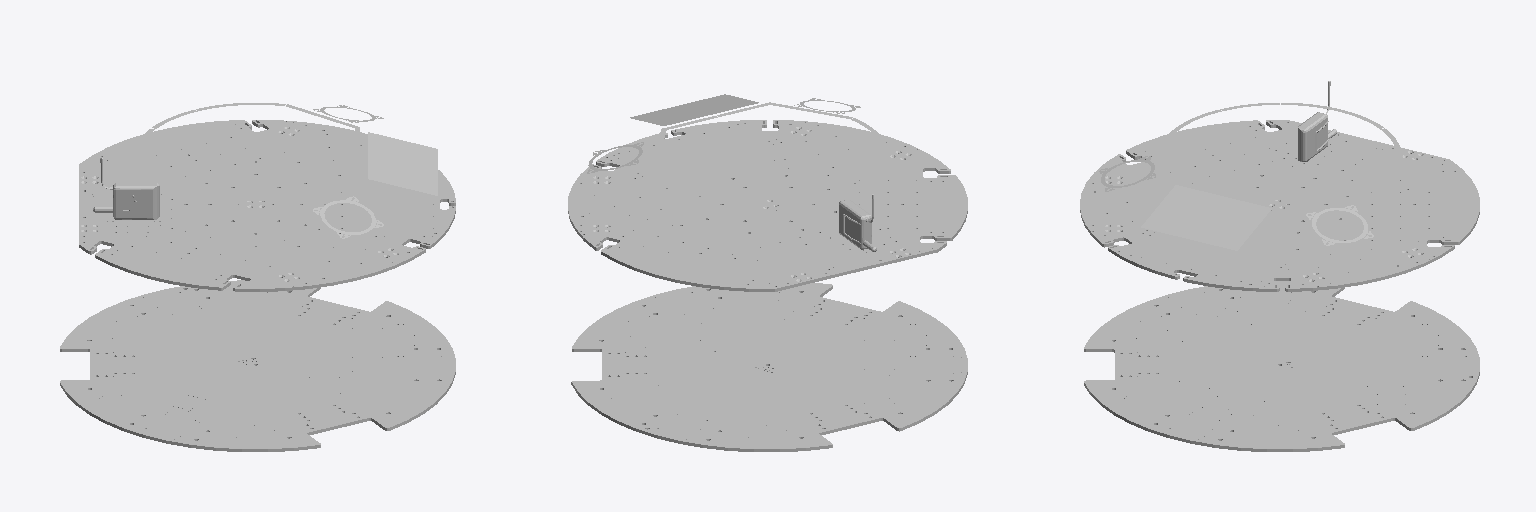
Rendered from platform_15.obj.
3 renders of one model, left to right at view 1: azimuth 30°, elevation 25°; view 2: azimuth 150°, elevation 25°; view 3: azimuth 270°, elevation 25°, orthographic.
Bounding box in the file's own units: 0.6999 × 0.431 × 0.6995.